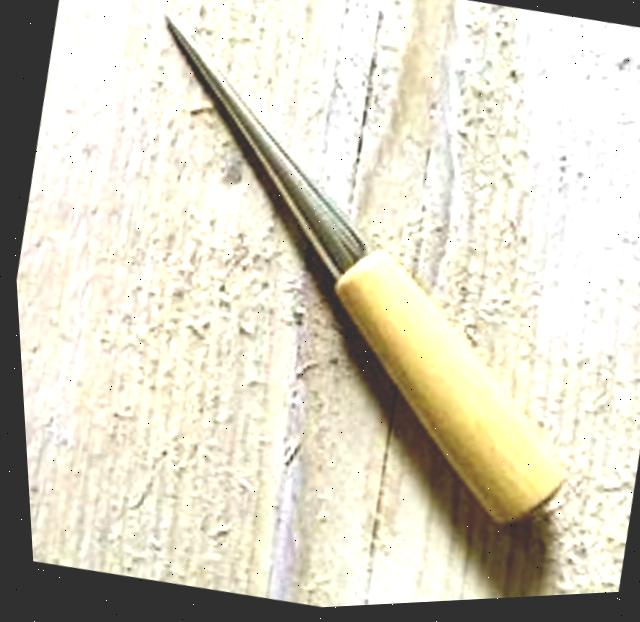ice pick: (66, 0, 639, 569)
